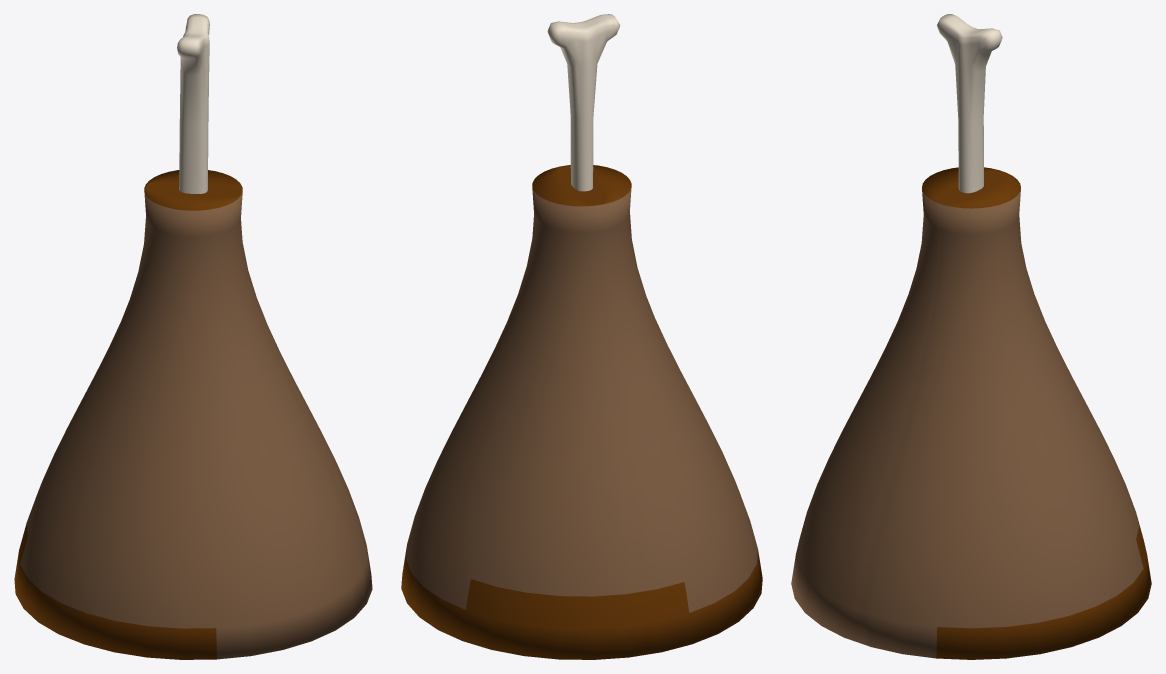
Rendered from Jamon_b.fbx.
The picture shows the model from 3 angles, left to right: view 1: azimuth 30°, elevation 25°; view 2: azimuth 150°, elevation 25°; view 3: azimuth 270°, elevation 25°; orthographic projection.
Visible parts, largest first — view 1: Trozo de carne; view 2: Trozo de carne; view 3: Trozo de carne.
Boxes of the visible parts, x1,y1,x2,y2 form: Trozo de carne: (14,14,372,659); Trozo de carne: (401,14,762,659); Trozo de carne: (791,14,1151,659).
Size of the model in its own units: 79.64 by 137 by 79.64.
